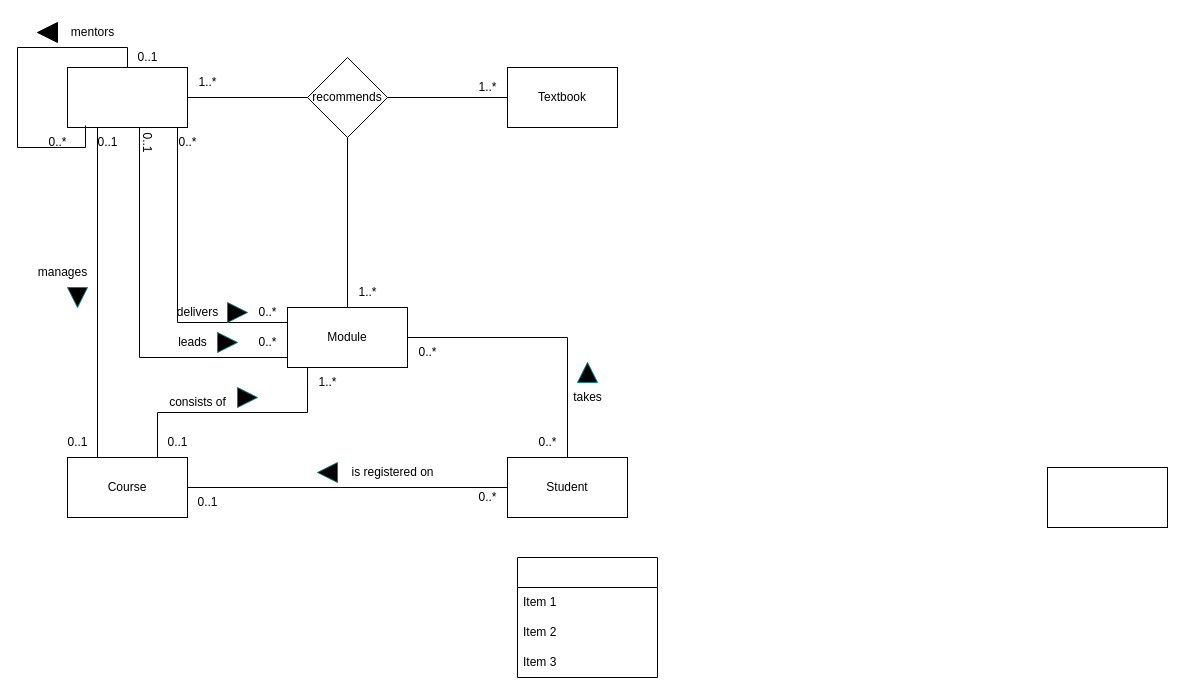
This 1185x695 diagram has some shape labels left out. Each missing label, with the box of its shape:
List: (516, 556, 658, 678)
Staff: (66, 66, 188, 128)
